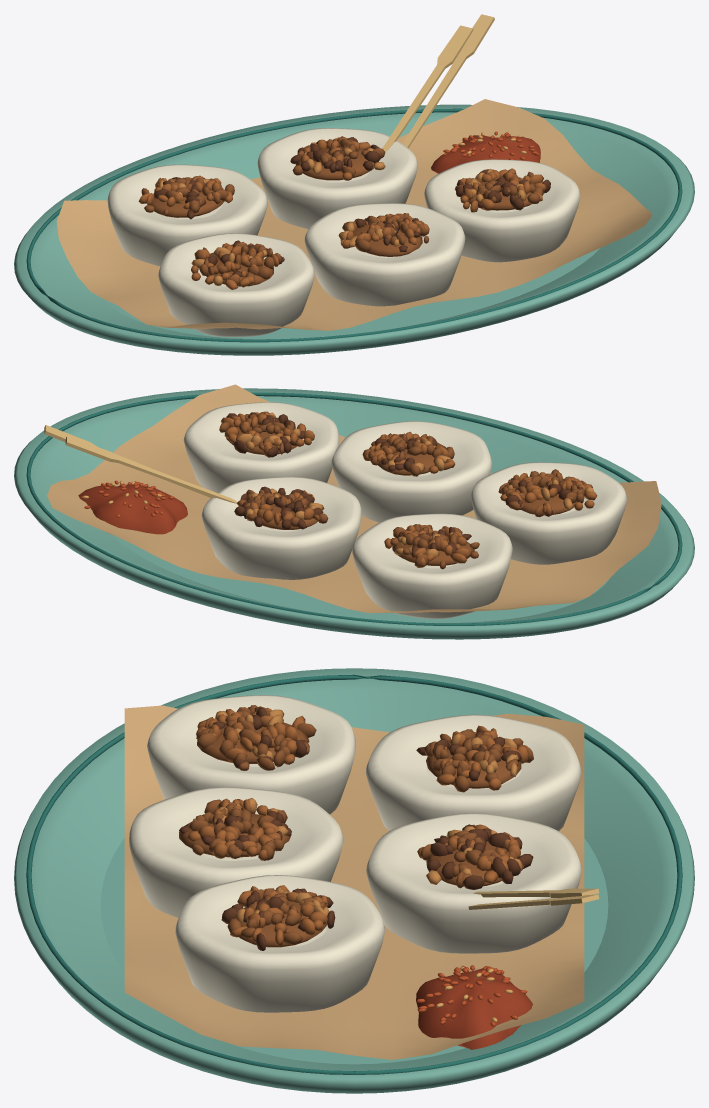
3 views of the same model, one above another, from view 1: azimuth 30°, elevation 25°; view 2: azimuth 150°, elevation 25°; view 3: azimuth 270°, elevation 25° (orthographic). The views are drawn at different scales.
Visible parts, largest first — view 1: Steamed cakes, Serving plate, Paper liner, Chye poh, Bamboo picks, Sambal; view 2: Steamed cakes, Serving plate, Paper liner, Chye poh, Sambal, Bamboo picks; view 3: Serving plate, Steamed cakes, Paper liner, Chye poh, Sambal, Bamboo picks.
Boxes of the visible parts, x1,y1,x2,y2 form: Steamed cakes: (107, 128, 580, 336); Serving plate: (14, 104, 694, 355); Paper liner: (56, 99, 651, 330); Chye poh: (138, 136, 550, 289); Bamboo picks: (382, 14, 494, 151); Sambal: (431, 131, 540, 173); Steamed cakes: (183, 402, 626, 618); Serving plate: (14, 388, 694, 639); Paper liner: (47, 384, 661, 613); Chye poh: (219, 411, 597, 569); Sambal: (78, 480, 187, 534); Bamboo picks: (44, 425, 236, 503); Serving plate: (14, 668, 694, 1093); Steamed cakes: (129, 695, 581, 1012); Paper liner: (124, 705, 584, 1059); Chye poh: (179, 705, 533, 950); Sambal: (416, 965, 532, 1049); Bamboo picks: (468, 888, 599, 909).
Size of the model in its own units: 0.328 by 0.0637 by 0.228.
